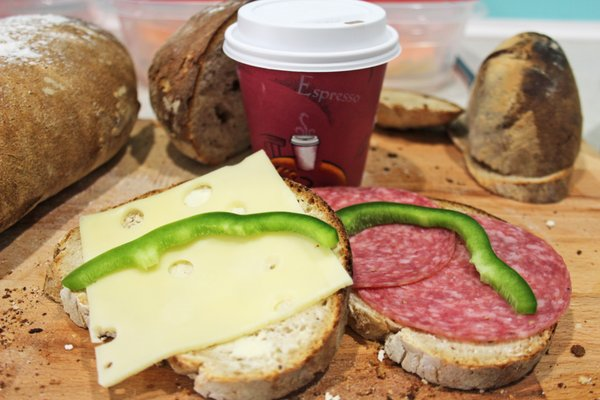pizza: (223, 0, 401, 188), (447, 30, 584, 204)
soup: (48, 148, 353, 393), (312, 185, 571, 389), (0, 13, 140, 236)
